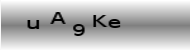9: (71, 23, 85, 37)
A: (48, 11, 67, 25)
K: (91, 14, 108, 28)
e: (108, 17, 120, 29)
u: (26, 18, 40, 31)
